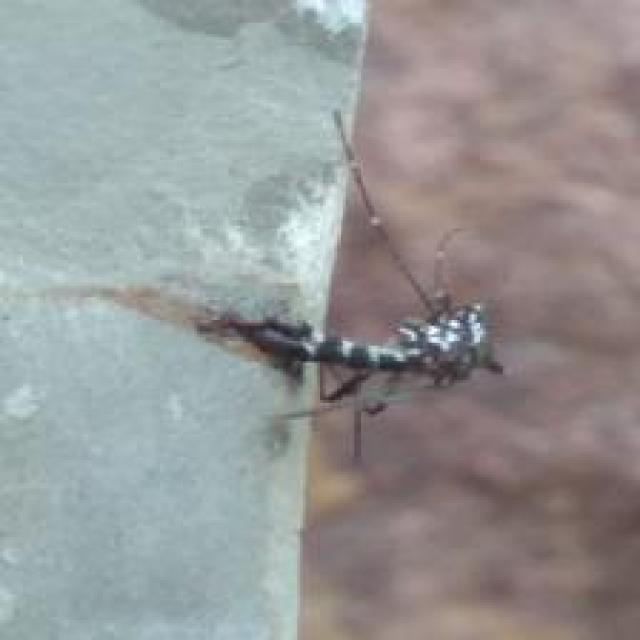Aedes albopictus: (46, 107, 506, 459)
